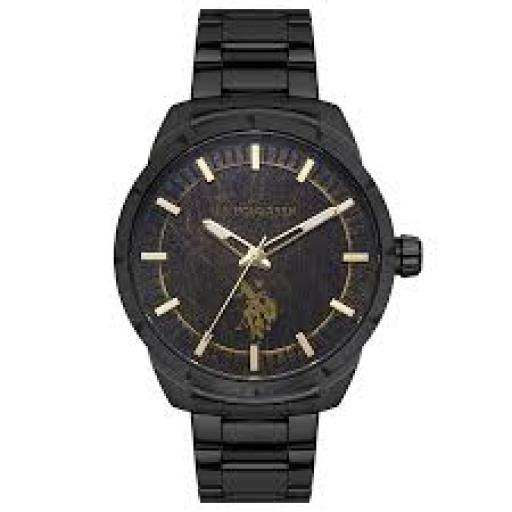KolSaati: (102, 6, 426, 512)
